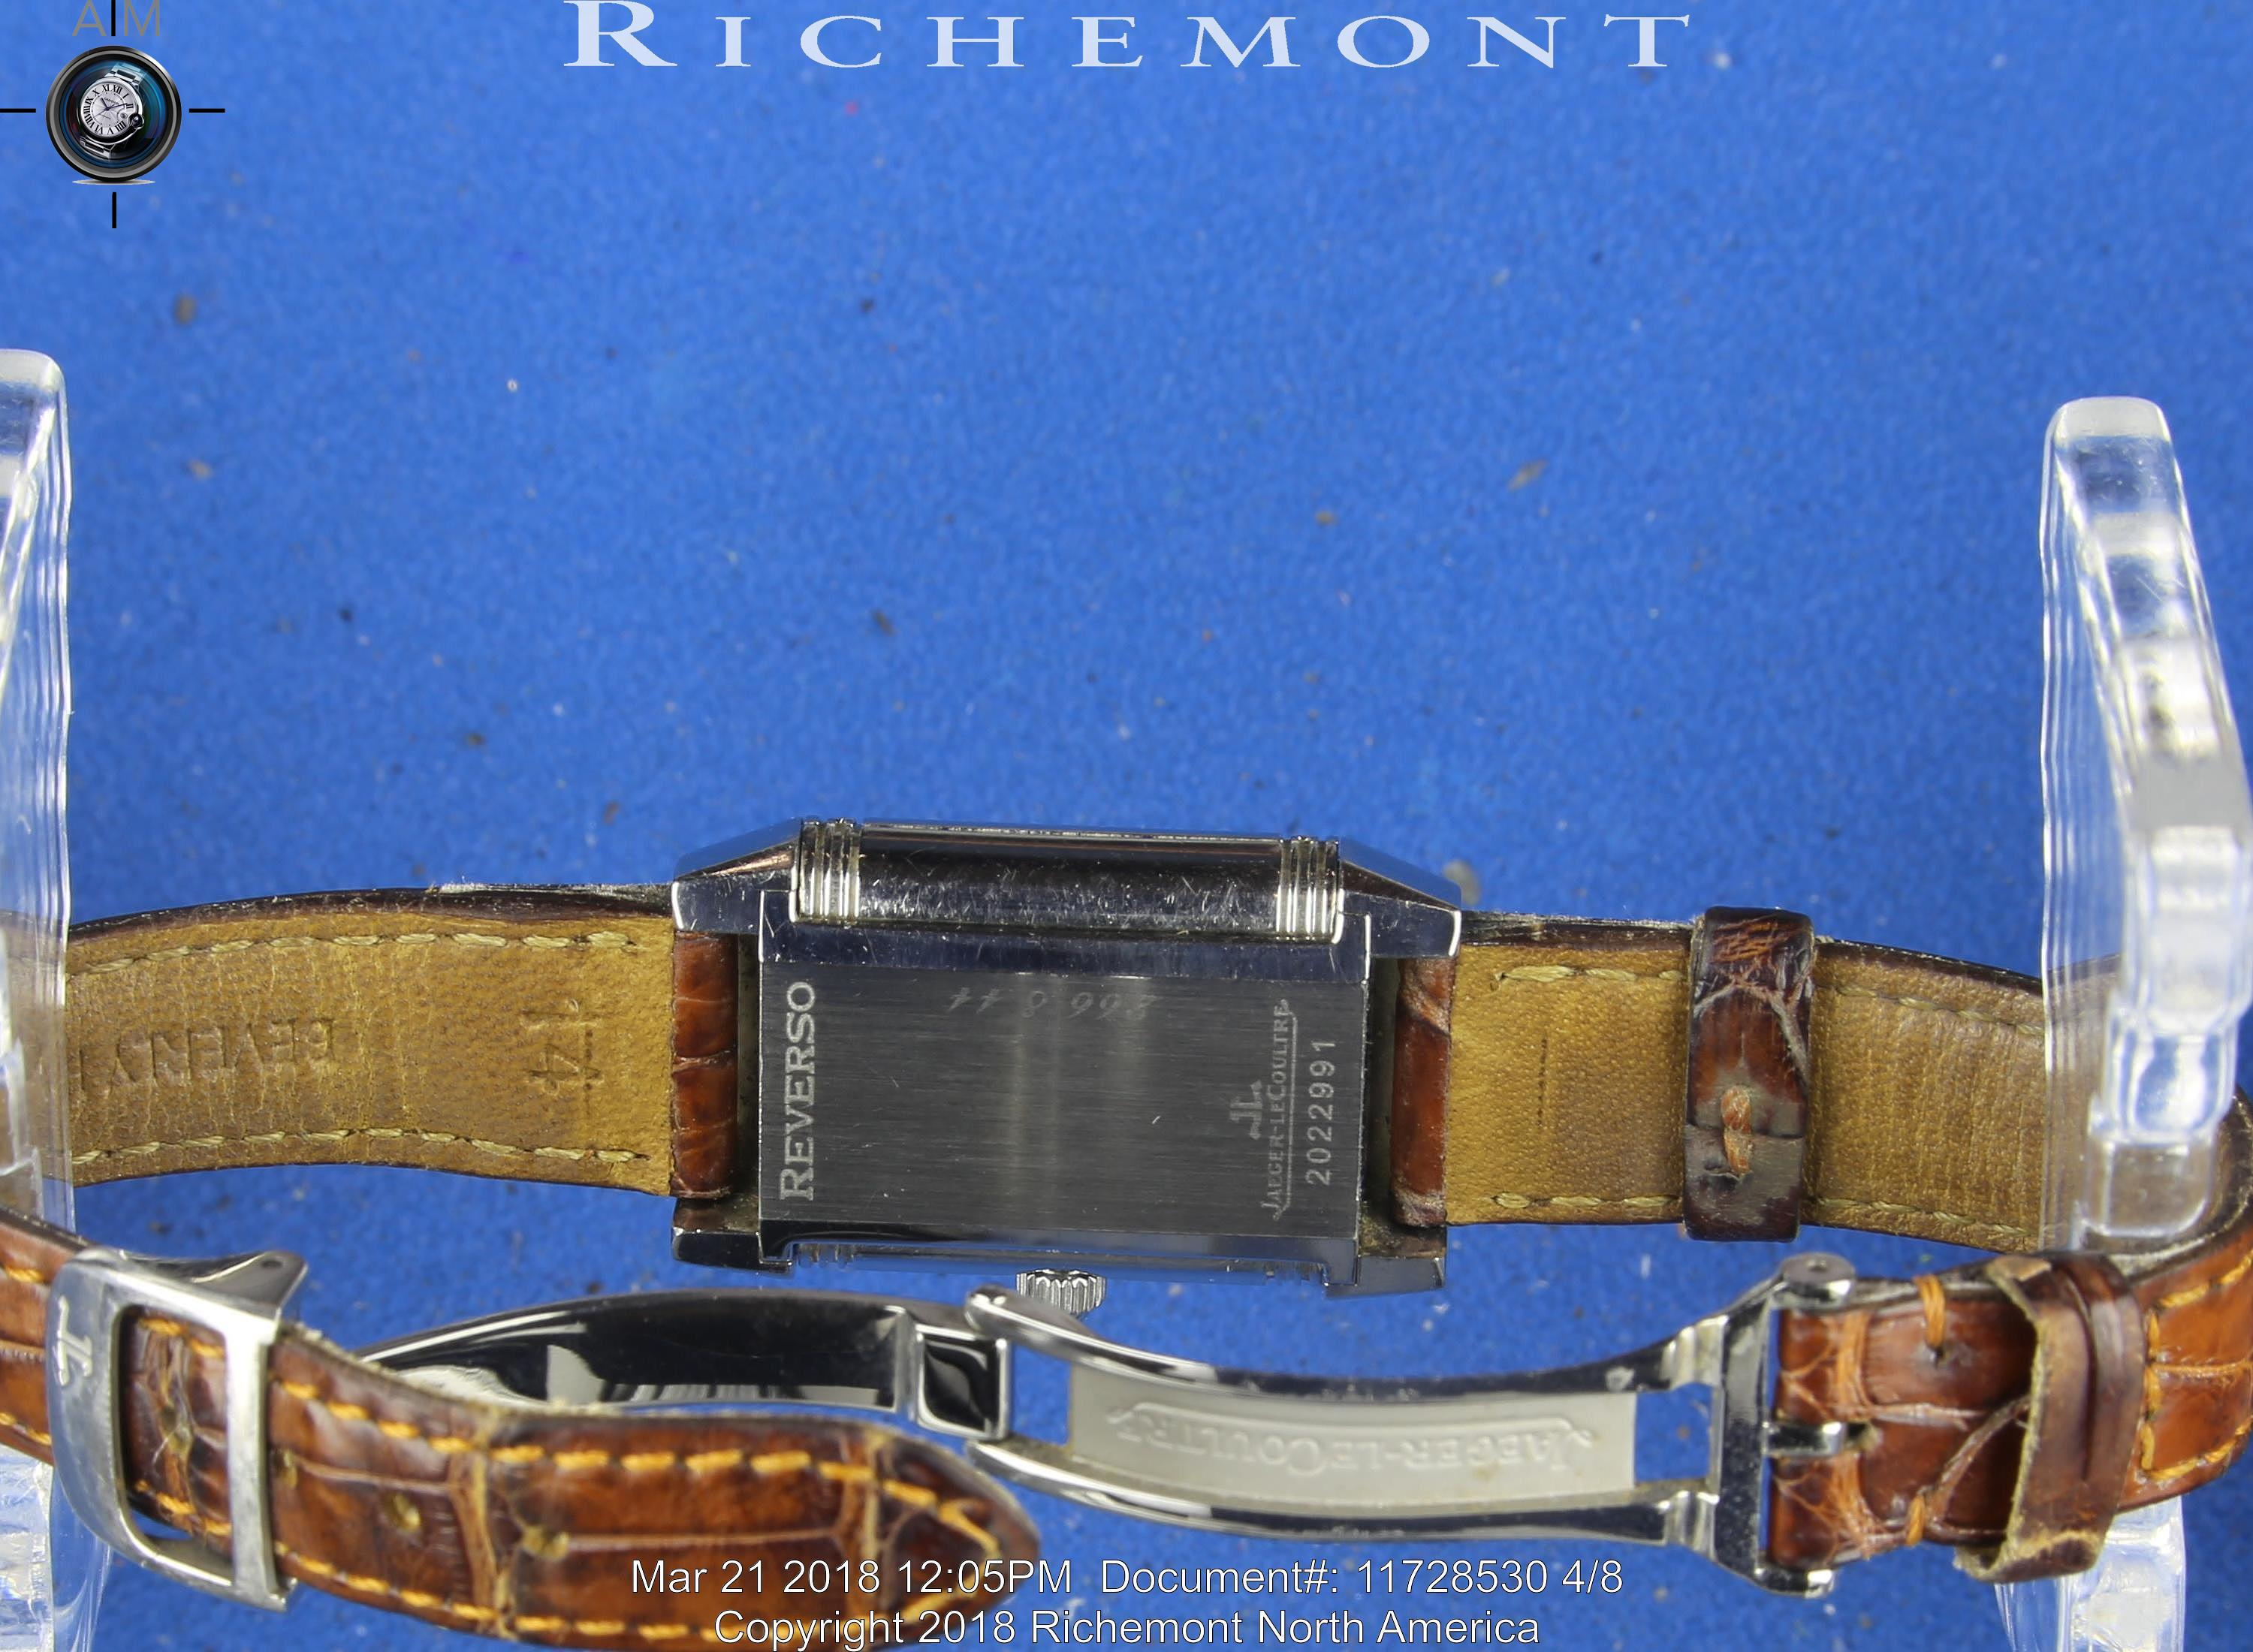Watch Back Case: (659, 815, 1457, 1302)
